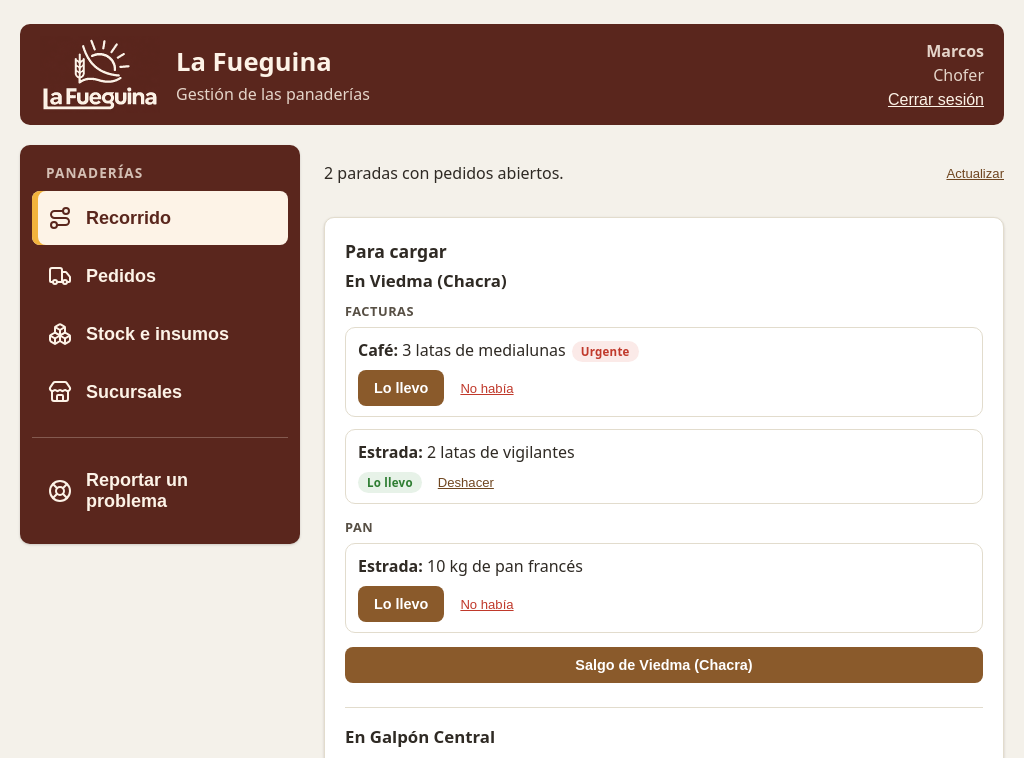
Test case: Recorrido del chofer › si el backend rechaza el cambio muestra el error
Expected: the text "3 latas de medialunas" is shown, [402,339,566,361]
Click the button "Lo llevo" below "3 latas de medialunas": {"x": 401, "y": 388} [358,370,444,406]
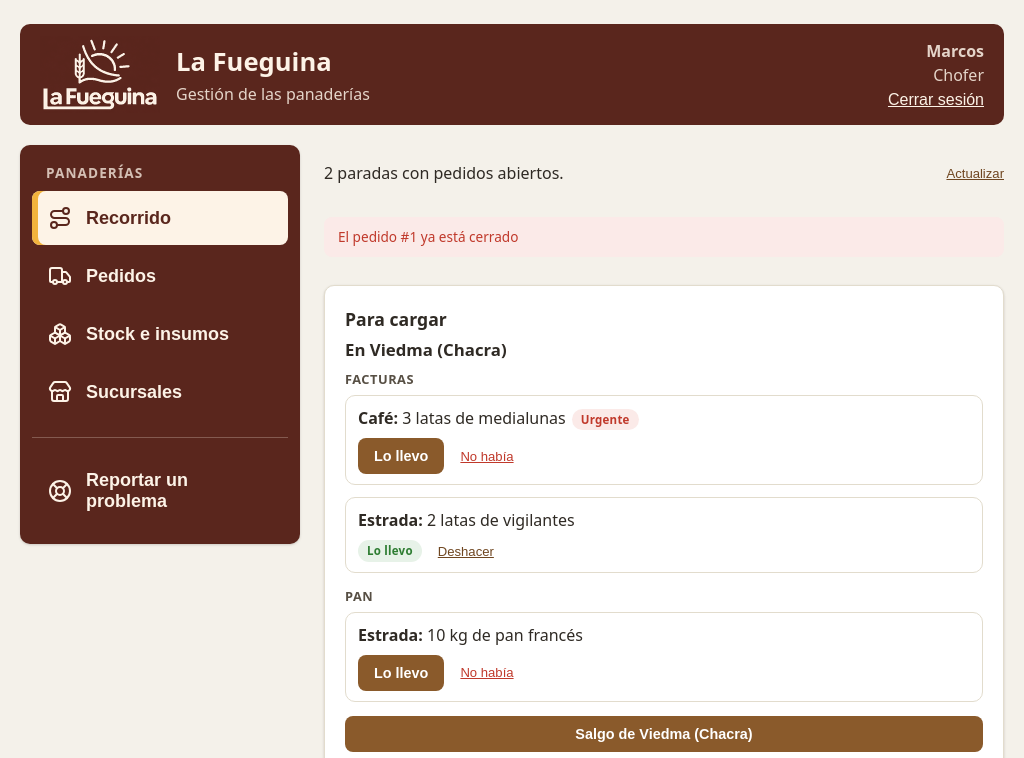
Expected: the message reads "El pedido #1 ya está cerrado", [338,227,518,246]
